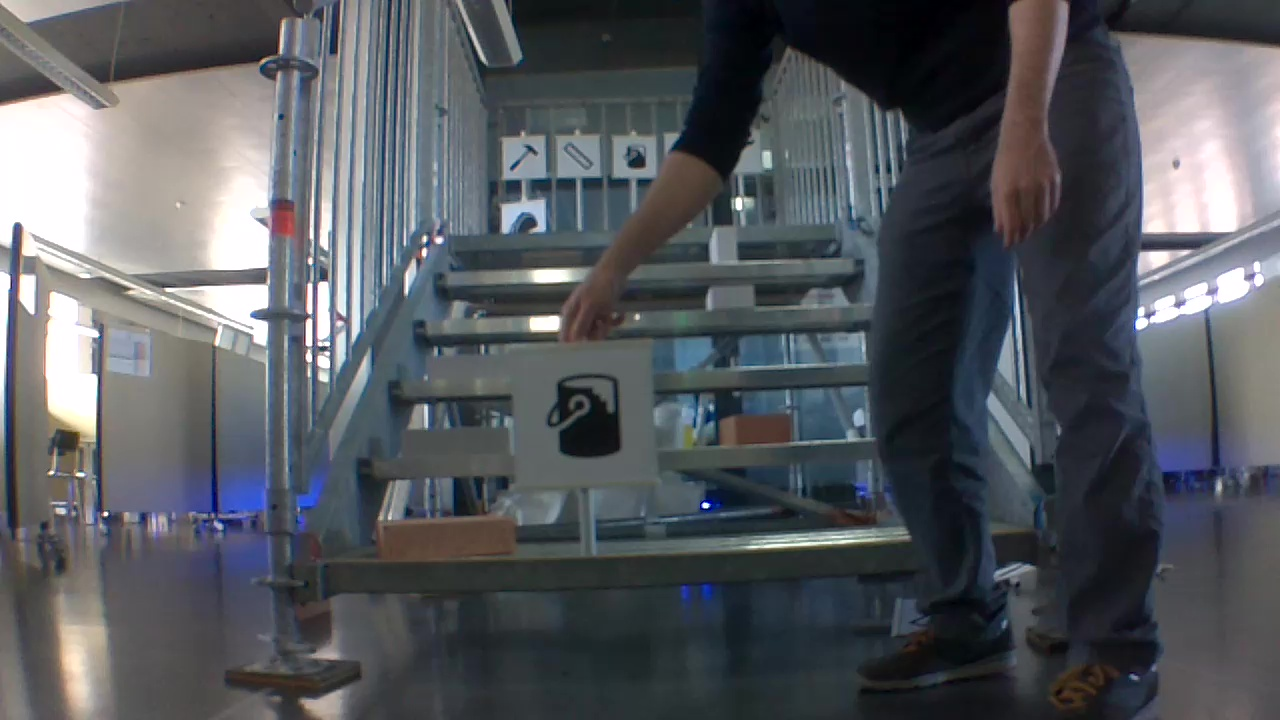brick: (378, 515, 512, 556), (402, 430, 513, 458), (719, 413, 791, 445), (427, 356, 506, 377), (710, 227, 738, 262), (705, 288, 754, 306)
bucket: (538, 366, 629, 463), (617, 138, 651, 173)
hammer: (503, 141, 540, 174)
ruler: (558, 138, 599, 175)
taco: (502, 207, 541, 234)
